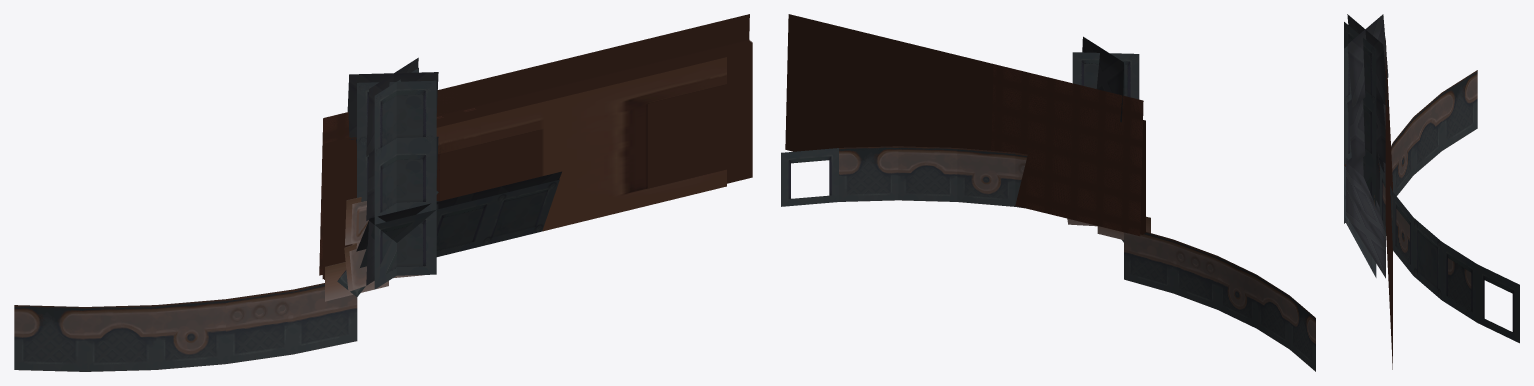
The model's file is floor_base.glb.
3 renders of one model, left to right at view 1: azimuth 30°, elevation 25°; view 2: azimuth 150°, elevation 25°; view 3: azimuth 270°, elevation 25°, orthographic. The views are drawn at different scales.
Visible parts, largest first — view 1: rsrc.world.tileset.clockworks.floor.floor_base-Variant[roof_ (×4), rsrc.world.tileset.clockworks.floor.floor_base-Variant[ramp_ (×15), rsrc.world.tileset.clockworks.floor.floor_base-Variant[trim2, rsrc.world.tileset.clockworks.floor.floor_base-Variant[floor (×2); view 2: rsrc.world.tileset.clockworks.floor.floor_base-Variant[roof_ (×2), rsrc.world.tileset.clockworks.floor.floor_base-Variant[trim2 (×2), rsrc.world.tileset.clockworks.floor.floor_base-Variant[ramp_ (×3), rsrc.world.tileset.clockworks.floor.floor_base-Variant[catwa; view 3: rsrc.world.tileset.clockworks.floor.floor_base-Variant[ramp_ (×13), rsrc.world.tileset.clockworks.floor.floor_base-Variant[trim2 (×2), rsrc.world.tileset.clockworks.floor.floor_base-Variant[catwa, rsrc.world.tileset.clockworks.floor.floor_base-Variant[roof_.
Boxes of the visible parts, left/top/right/bottom form: rsrc.world.tileset.clockworks.floor.floor_base-Variant[roof_ (×4): left=319, top=14, right=752, bottom=279; rsrc.world.tileset.clockworks.floor.floor_base-Variant[ramp_ (×15): left=347, top=57, right=561, bottom=289; rsrc.world.tileset.clockworks.floor.floor_base-Variant[trim2: left=14, top=283, right=357, bottom=371; rsrc.world.tileset.clockworks.floor.floor_base-Variant[floor (×2): left=325, top=197, right=424, bottom=301; rsrc.world.tileset.clockworks.floor.floor_base-Variant[roof_ (×2): left=785, top=14, right=1145, bottom=236; rsrc.world.tileset.clockworks.floor.floor_base-Variant[trim2 (×2): left=839, top=146, right=1315, bottom=371; rsrc.world.tileset.clockworks.floor.floor_base-Variant[ramp_ (×3): left=1072, top=36, right=1139, bottom=122; rsrc.world.tileset.clockworks.floor.floor_base-Variant[catwa: left=781, top=148, right=838, bottom=206; rsrc.world.tileset.clockworks.floor.floor_base-Variant[ramp_ (×13): left=1344, top=14, right=1388, bottom=278; rsrc.world.tileset.clockworks.floor.floor_base-Variant[trim2 (×2): left=1382, top=70, right=1477, bottom=310; rsrc.world.tileset.clockworks.floor.floor_base-Variant[catwa: left=1379, top=164, right=1519, bottom=343; rsrc.world.tileset.clockworks.floor.floor_base-Variant[roof_: left=1385, top=39, right=1392, bottom=369.
Size of the model in its own units: 11.12 by 4.11 by 2.74.
11 materials, 11 textured.
